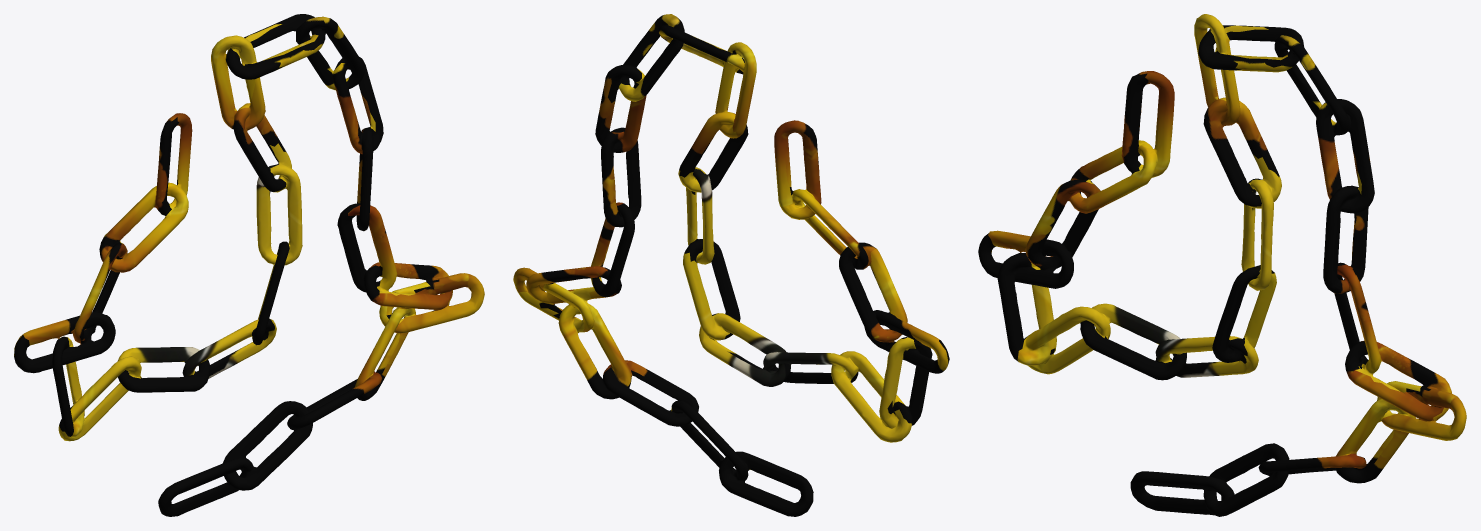
3 views of the same model, side by side, from view 1: azimuth 30°, elevation 25°; view 2: azimuth 150°, elevation 25°; view 3: azimuth 330°, elevation 25° (orthographic). The views are drawn at different scales.
Size of the model in its own units: 0.3103 by 0.3072 by 0.0248.
